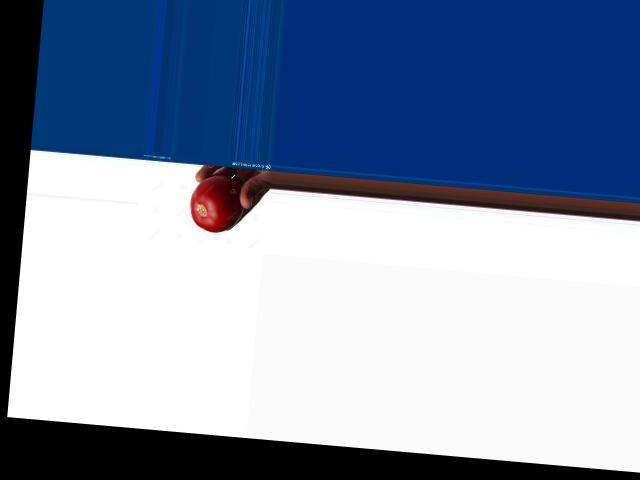tomato: (188, 172, 246, 234)
